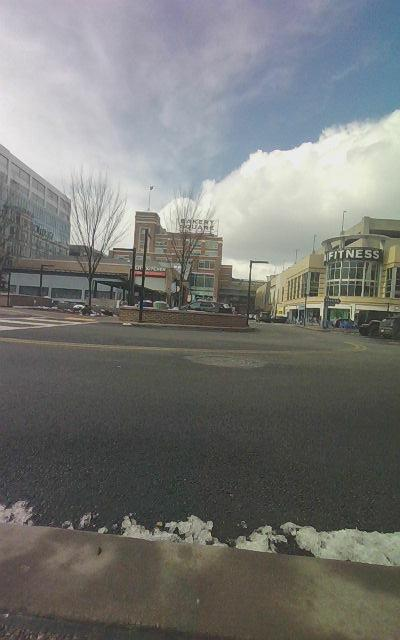curb: (0, 524, 399, 639)
road: (0, 312, 399, 565)
